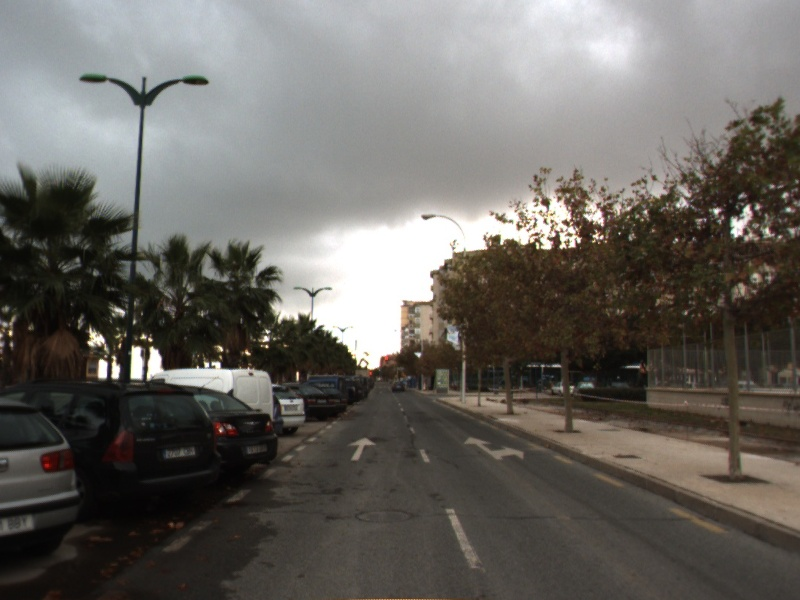STRAIGHT: (346, 435, 378, 462)
STRAIGHT_RIGHT: (462, 435, 527, 461)
